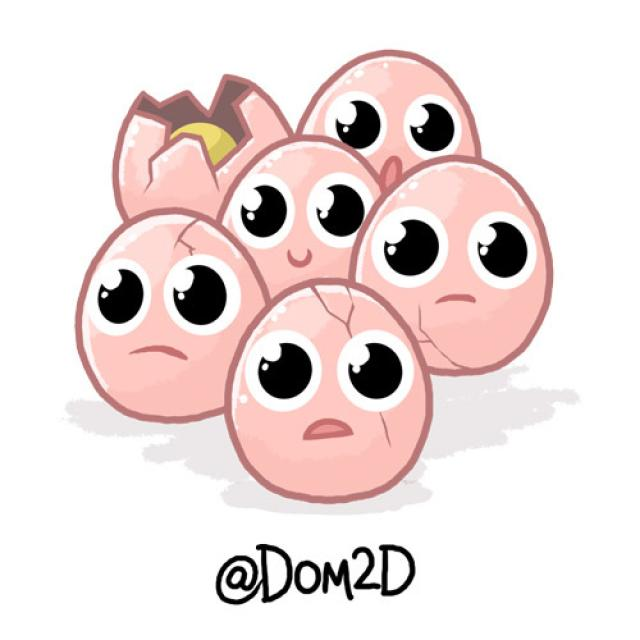Exeggcute: (73, 56, 551, 508)
